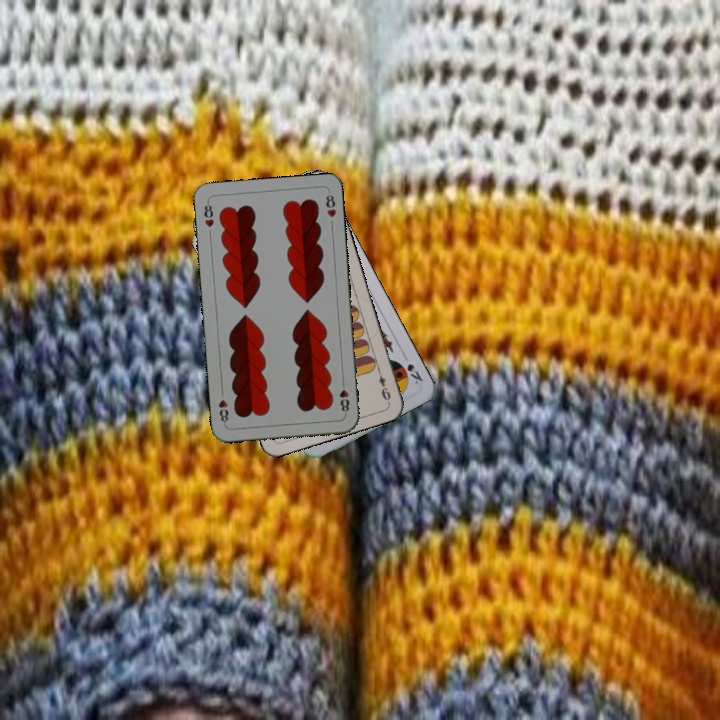E9: (374, 365, 393, 403)
H8: (336, 376, 352, 417), (200, 198, 217, 230)
SK: (399, 350, 425, 387)
